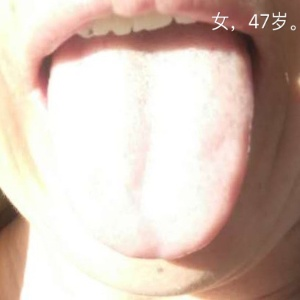st: (44, 64, 261, 245)
